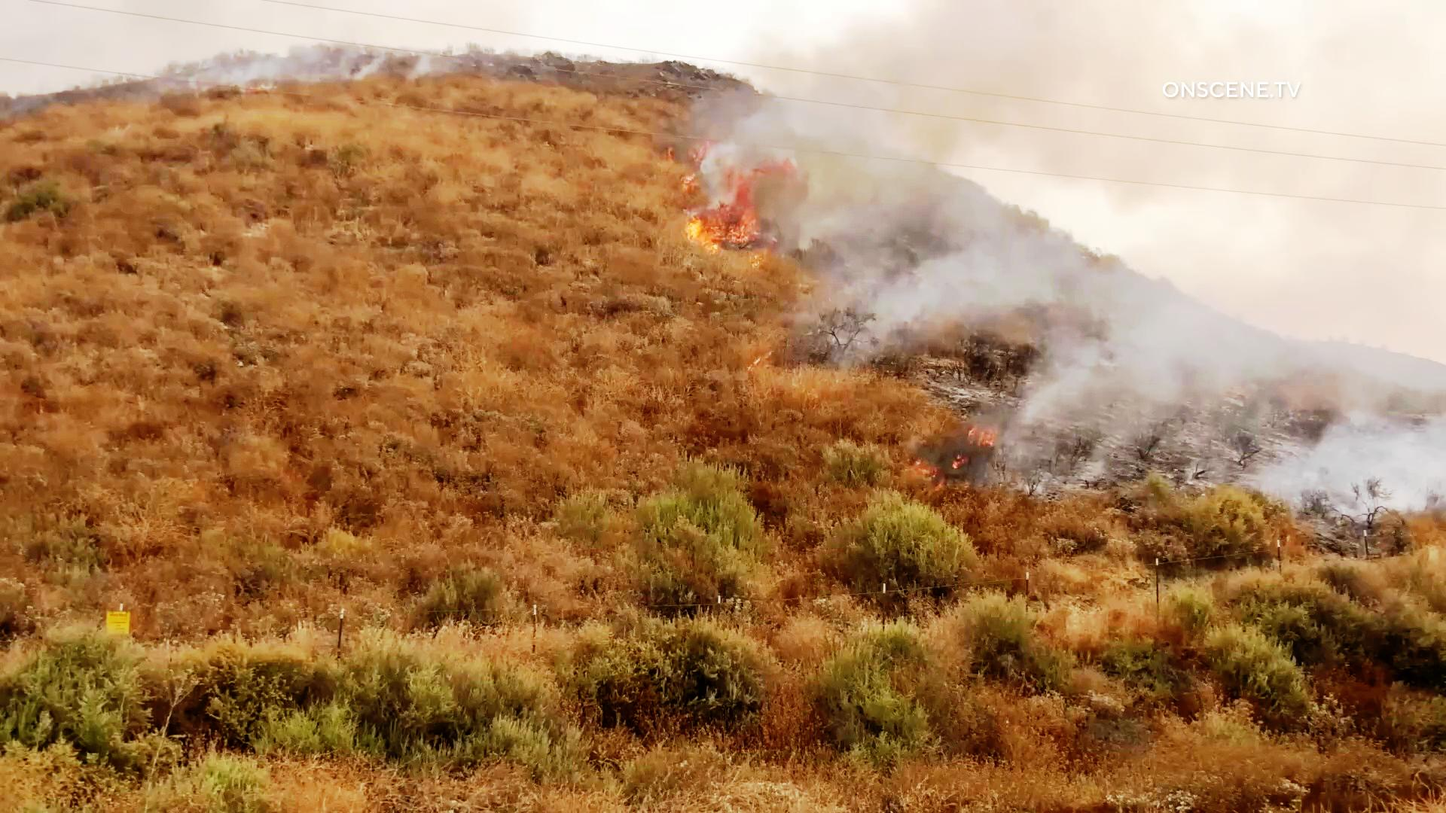fire: (682, 172, 784, 265)
smoke: (778, 2, 1127, 154), (1220, 405, 1446, 536), (876, 251, 1047, 401)
